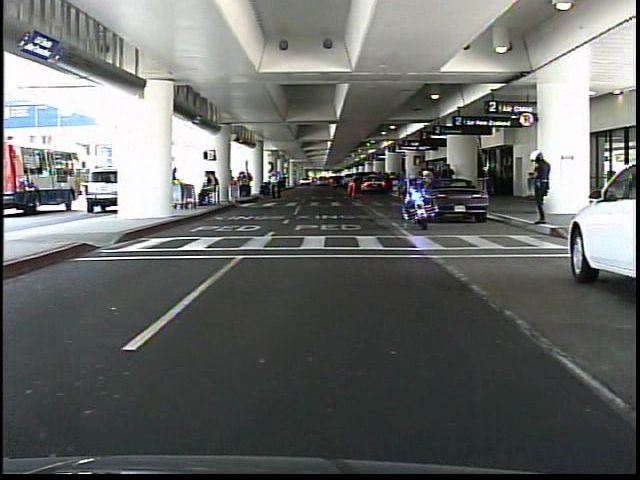person: (526, 148, 558, 228)
